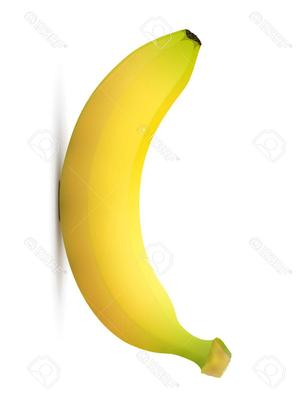banana: (0, 0, 302, 400)
